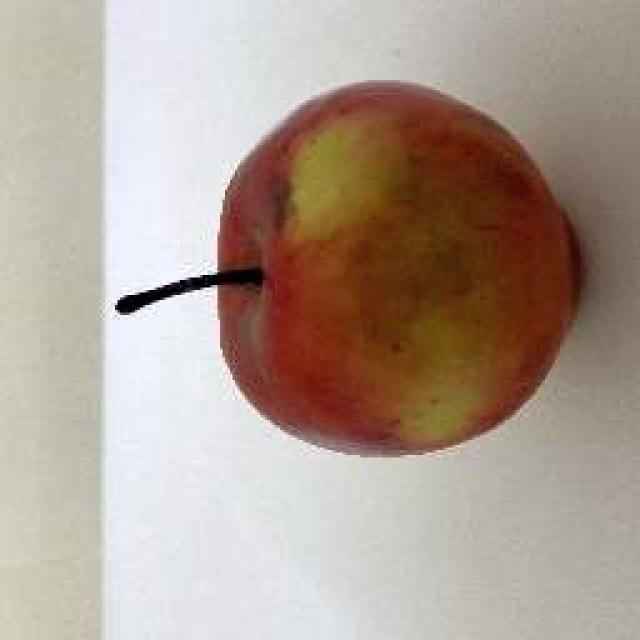Good_Apple: (172, 80, 582, 460)
